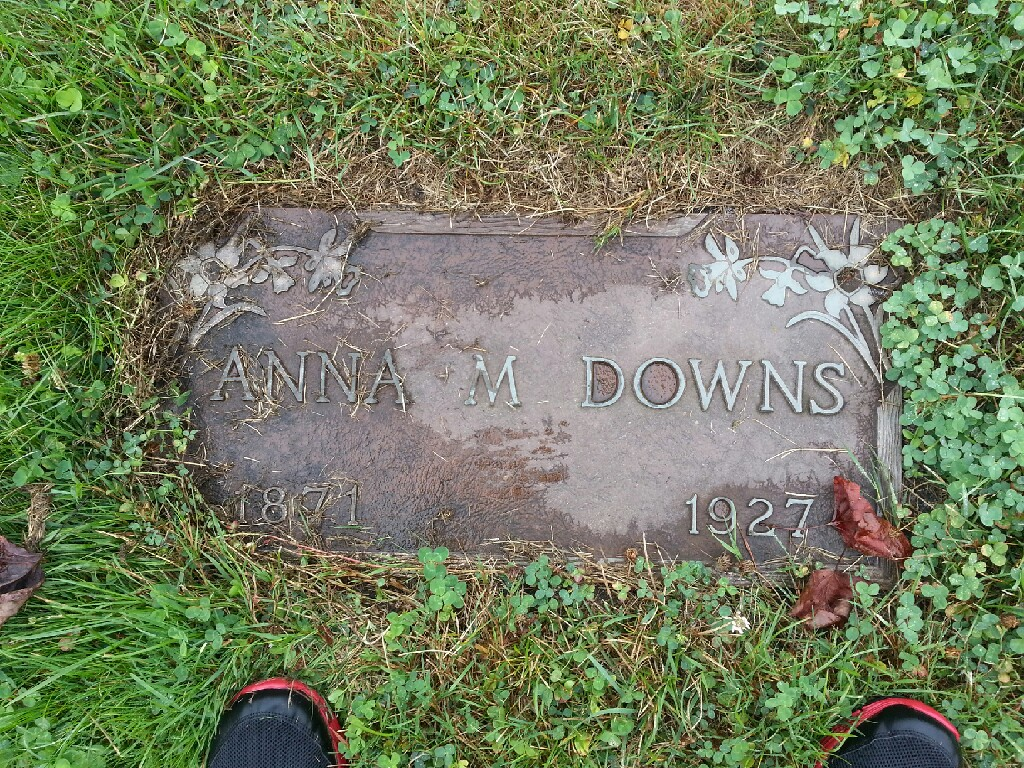flat: (126, 169, 908, 609)
